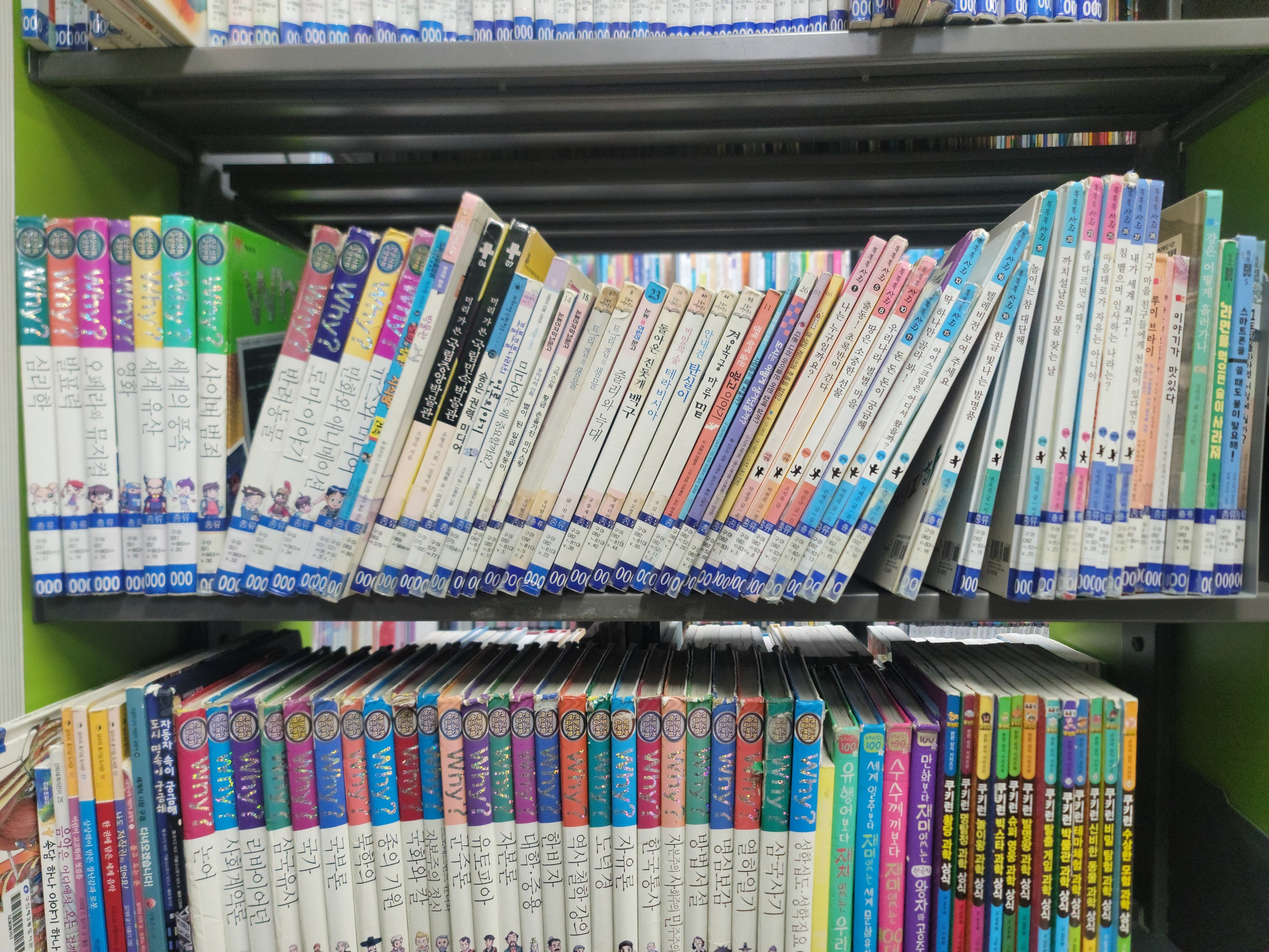book-spine: (757, 230, 991, 594), (705, 234, 908, 594), (691, 235, 887, 594), (314, 190, 478, 600), (741, 263, 932, 600), (321, 197, 479, 602), (729, 263, 916, 603), (371, 221, 531, 598), (349, 219, 507, 597), (820, 278, 1004, 600), (797, 283, 980, 602), (762, 283, 944, 597), (264, 223, 412, 598), (291, 227, 438, 595), (238, 226, 381, 598), (311, 223, 452, 595), (207, 222, 345, 599), (649, 279, 812, 594), (426, 254, 571, 599), (604, 285, 763, 594), (561, 284, 718, 594), (584, 284, 741, 594), (539, 282, 691, 596), (625, 287, 780, 594), (518, 282, 668, 596), (497, 279, 643, 595), (393, 271, 529, 596), (474, 289, 617, 595), (408, 276, 543, 596), (959, 190, 1059, 598), (447, 287, 578, 598), (462, 290, 594, 596), (900, 303, 1012, 600), (1011, 180, 1085, 604), (1035, 177, 1104, 601), (1058, 175, 1124, 600), (1076, 177, 1137, 596), (1091, 178, 1150, 598), (1105, 179, 1162, 595), (1108, 179, 1160, 598), (1170, 192, 1224, 595), (704, 323, 808, 519), (11, 216, 63, 596), (73, 216, 122, 596), (43, 219, 92, 597), (668, 411, 763, 595), (1210, 235, 1257, 596), (1192, 240, 1238, 597), (742, 280, 843, 435), (1120, 257, 1166, 593), (1144, 259, 1190, 594), (653, 428, 741, 594), (106, 223, 145, 594), (130, 215, 168, 595), (744, 272, 831, 435), (160, 216, 197, 594), (1134, 257, 1175, 591), (1227, 237, 1265, 594), (196, 213, 228, 598)
